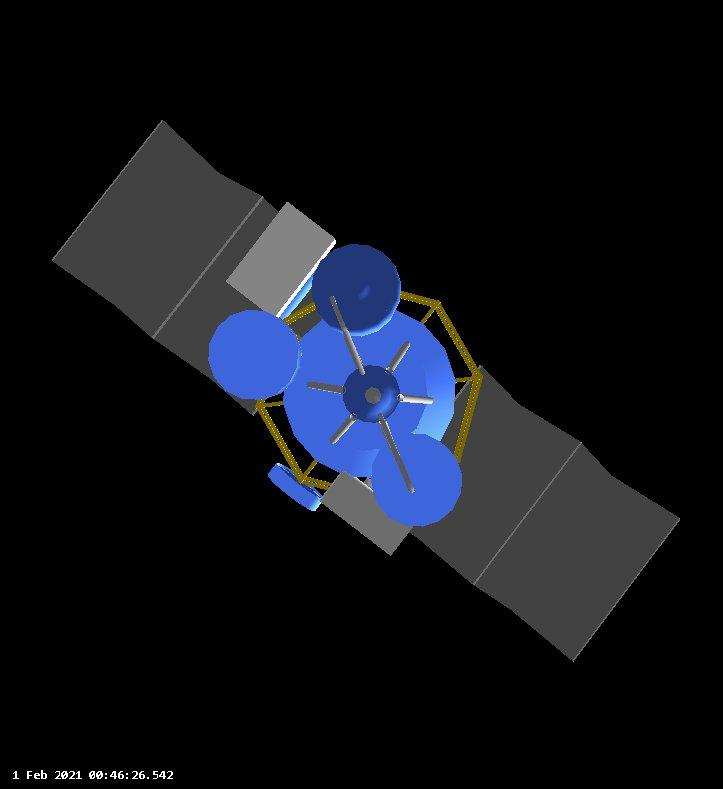antenna: (332, 354, 409, 430), (263, 460, 326, 516)
body: (249, 282, 489, 500)
solar: (358, 360, 685, 667), (44, 113, 361, 417)
